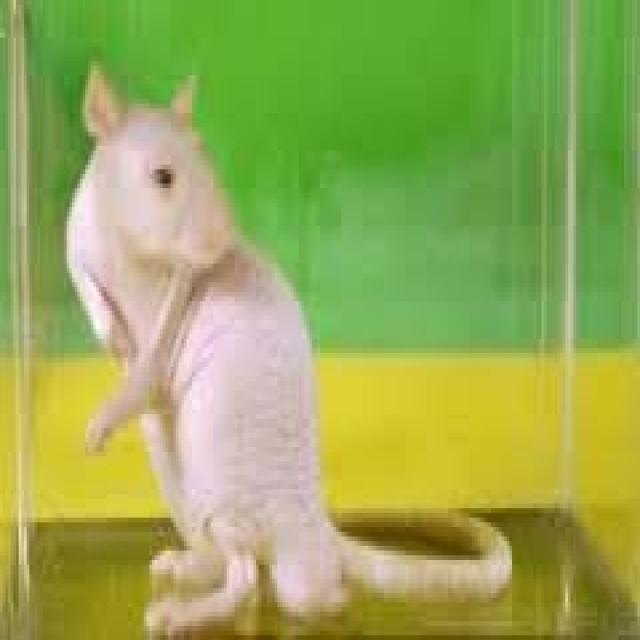Rat: (41, 0, 445, 637)
